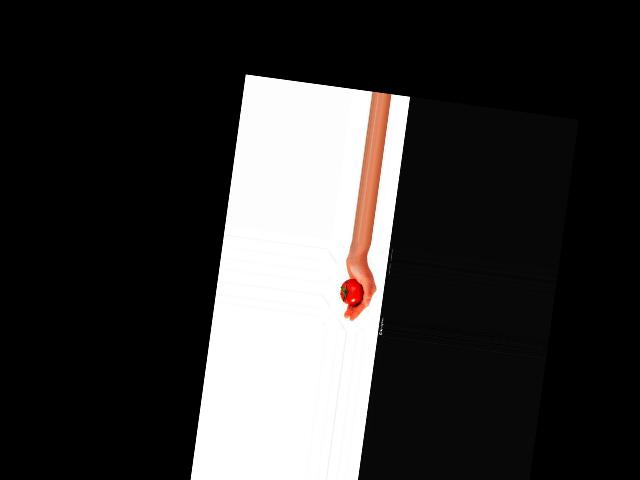tomato: (339, 276, 365, 305)
